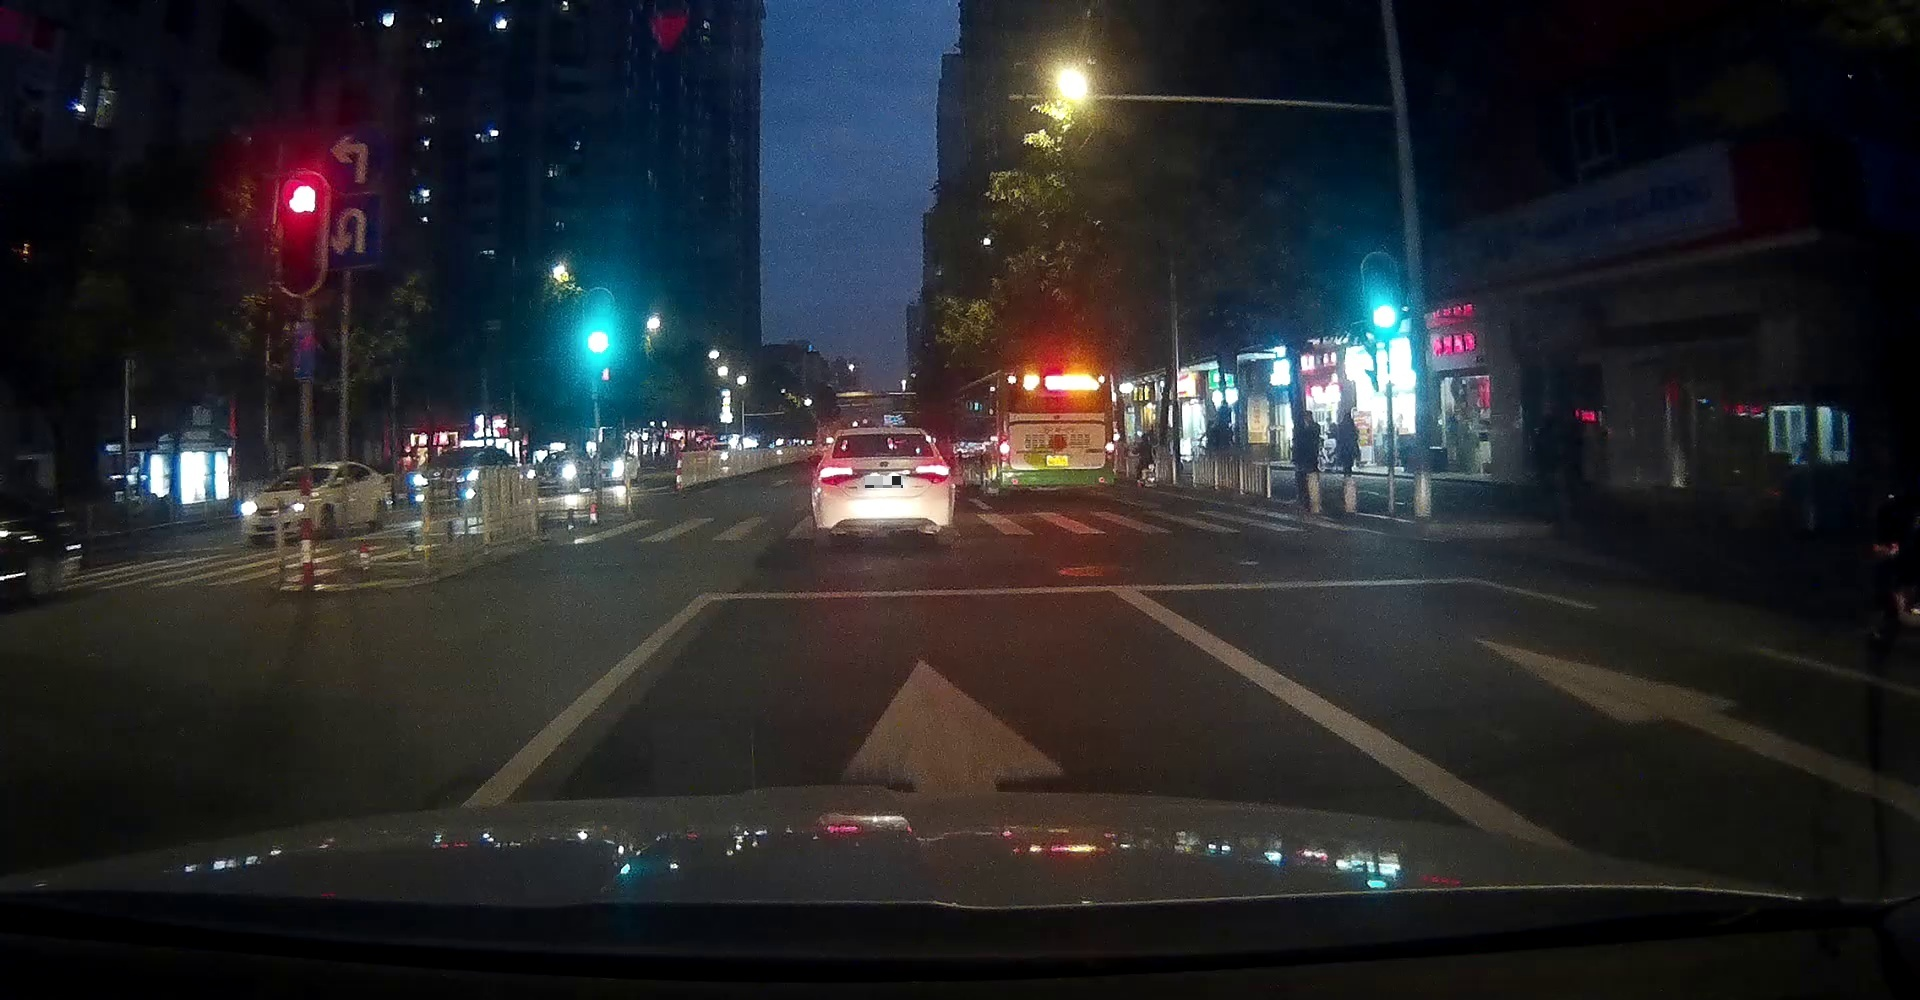L_light: (817, 464, 863, 486), (998, 437, 1011, 461)
R_light: (905, 463, 950, 484), (1103, 435, 1114, 461)
T_light: (874, 451, 894, 457), (1050, 368, 1070, 374)
night-no: (811, 428, 954, 547), (998, 368, 1115, 503)
plate_1: (865, 476, 903, 489)
